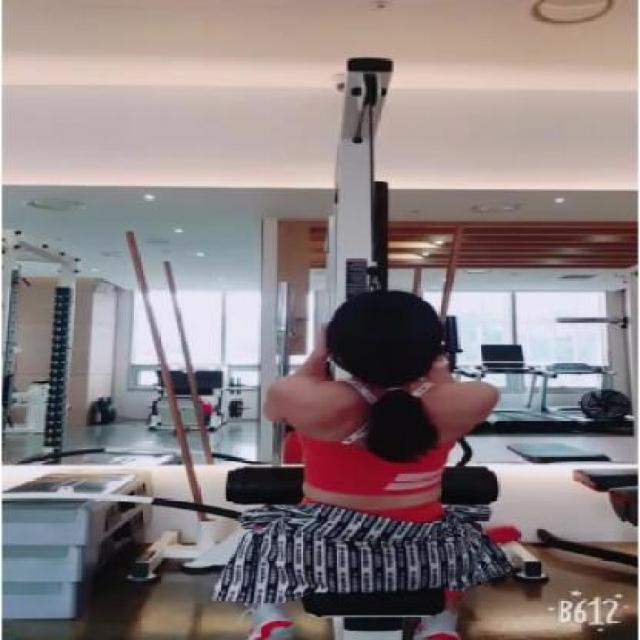Lat Pull Down: (47, 41, 604, 640)
